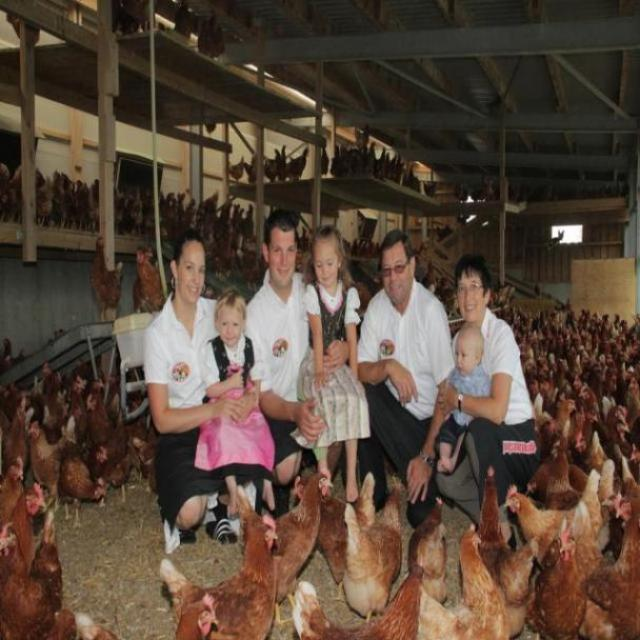Chicken: (11, 437, 640, 640), (224, 120, 628, 216), (336, 475, 411, 639)
